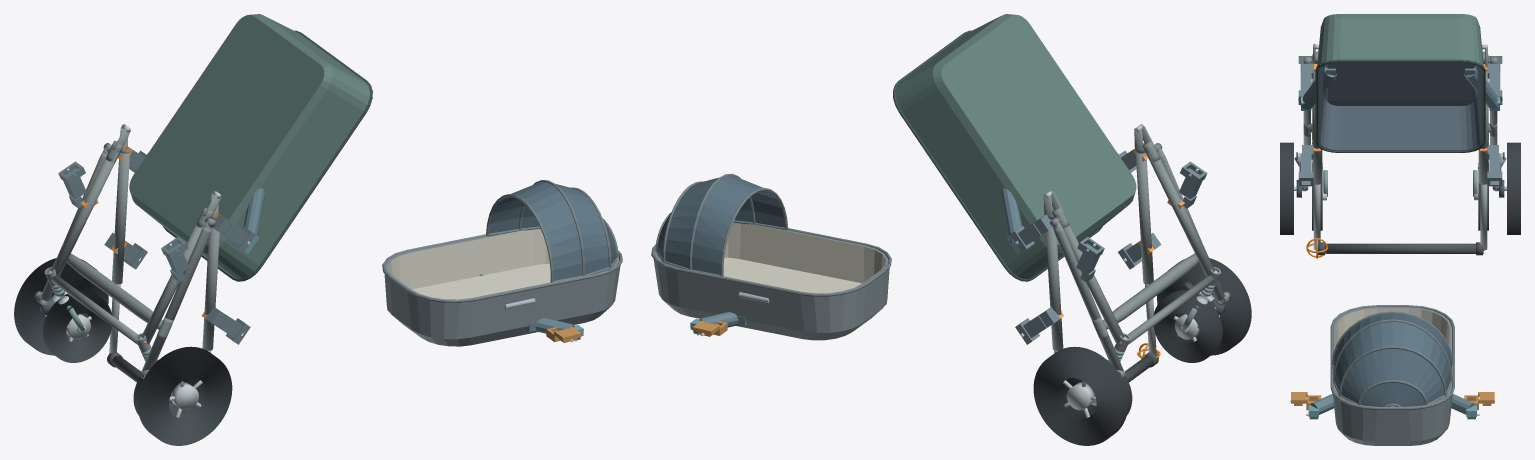
Rendered from D12_w650_state3_wheel_M.glb.
The picture shows the model from 3 angles, left to right: view 1: azimuth 30°, elevation 25°; view 2: azimuth 150°, elevation 25°; view 3: azimuth 270°, elevation 25°; orthographic projection. The views are drawn at different scales.
Visible parts, largest first — view 1: D12_Lower, D12_Upper, RL_tire.011, FR_tire.011, RR_tire.011, main_upper_1.012, main_lower_1.012, V46_rearbar.011, V46_rear_leg_-1.011, main_upper_-1.012, main_lower_-1.012, front_fixed_round_tube.011 (+5 smaller); view 2: D12_Lower, D12_Upper, RR_tire.011, FL_tire.011, RL_tire.011, main_upper_-1.012, main_lower_-1.012, V46_rearbar.011, V46_rear_leg_1.011, main_upper_1.012, main_lower_1.012, front_fixed_round_tube.011 (+6 smaller); view 3: D12_Lower, D12_Upper, round_handle.013, RL_tire.011, RR_tire.011, D12_Lower_Mount_M, D12_Upper_Mount_H, Universal_Cabin_Receiver_H_1, Universal_Cabin_Receiver_H_-1, main_upper_1.012, main_upper_-1.012, handle_slider_1.013 (+7 smaller).
Part boxes in pixels (<box>): D12_Lower: <box>129,14,372,281</box>; D12_Upper: <box>382,180,622,346</box>; RL_tire.011: <box>137,346,232,445</box>; FR_tire.011: <box>43,290,112,362</box>; RR_tire.011: <box>14,258,108,355</box>; main_upper_1.012: <box>112,152,129,284</box>; main_lower_1.012: <box>50,152,118,276</box>; V46_rearbar.011: <box>66,253,162,329</box>; V46_rear_leg_-1.011: <box>142,226,211,370</box>; main_upper_-1.012: <box>202,219,219,350</box>; main_lower_-1.012: <box>141,223,205,344</box>; front_fixed_round_tube.011: <box>51,275,137,344</box>; D12_Lower: <box>893,14,1136,281</box>; D12_Upper: <box>651,173,891,340</box>; RR_tire.011: <box>1033,346,1128,445</box>; FL_tire.011: <box>1153,290,1222,362</box>; RL_tire.011: <box>1157,258,1251,355</box>; main_upper_-1.012: <box>1136,152,1153,284</box>; main_lower_-1.012: <box>1147,152,1214,276</box>; V46_rearbar.011: <box>1103,253,1199,329</box>; V46_rear_leg_1.011: <box>1054,226,1123,370</box>; main_upper_1.012: <box>1046,219,1063,350</box>; main_lower_1.012: <box>1060,223,1124,344</box>; front_fixed_round_tube.011: <box>1128,275,1214,344</box>; D12_Lower: <box>1315,14,1485,152</box>; D12_Upper: <box>1330,305,1454,445</box>; round_handle.013: <box>1325,243,1483,253</box>; RL_tire.011: <box>1280,142,1293,234</box>; RR_tire.011: <box>1507,142,1520,234</box>; D12_Lower_Mount_M: <box>1298,65,1502,110</box>; D12_Upper_Mount_H: <box>1306,394,1479,419</box>; Universal_Cabin_Receiver_H_1: <box>1487,145,1502,186</box>; Universal_Cabin_Receiver_H_-1: <box>1298,145,1313,186</box>; main_upper_1.012: <box>1478,69,1488,184</box>; main_upper_-1.012: <box>1312,69,1322,184</box>; handle_slider_1.013: <box>1480,184,1487,250</box>.
Size of the model in its own units: 1.8 by 1.07 by 0.781.
